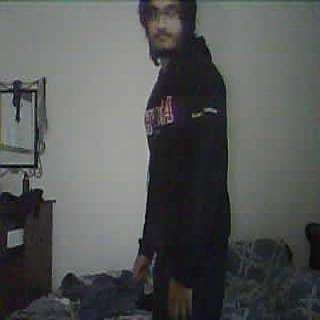HOSA Hoodie: (144, 64, 230, 254)
Navy Sweatpants: (151, 253, 226, 320)
